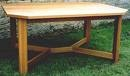obstacle: (0, 1, 129, 75)
